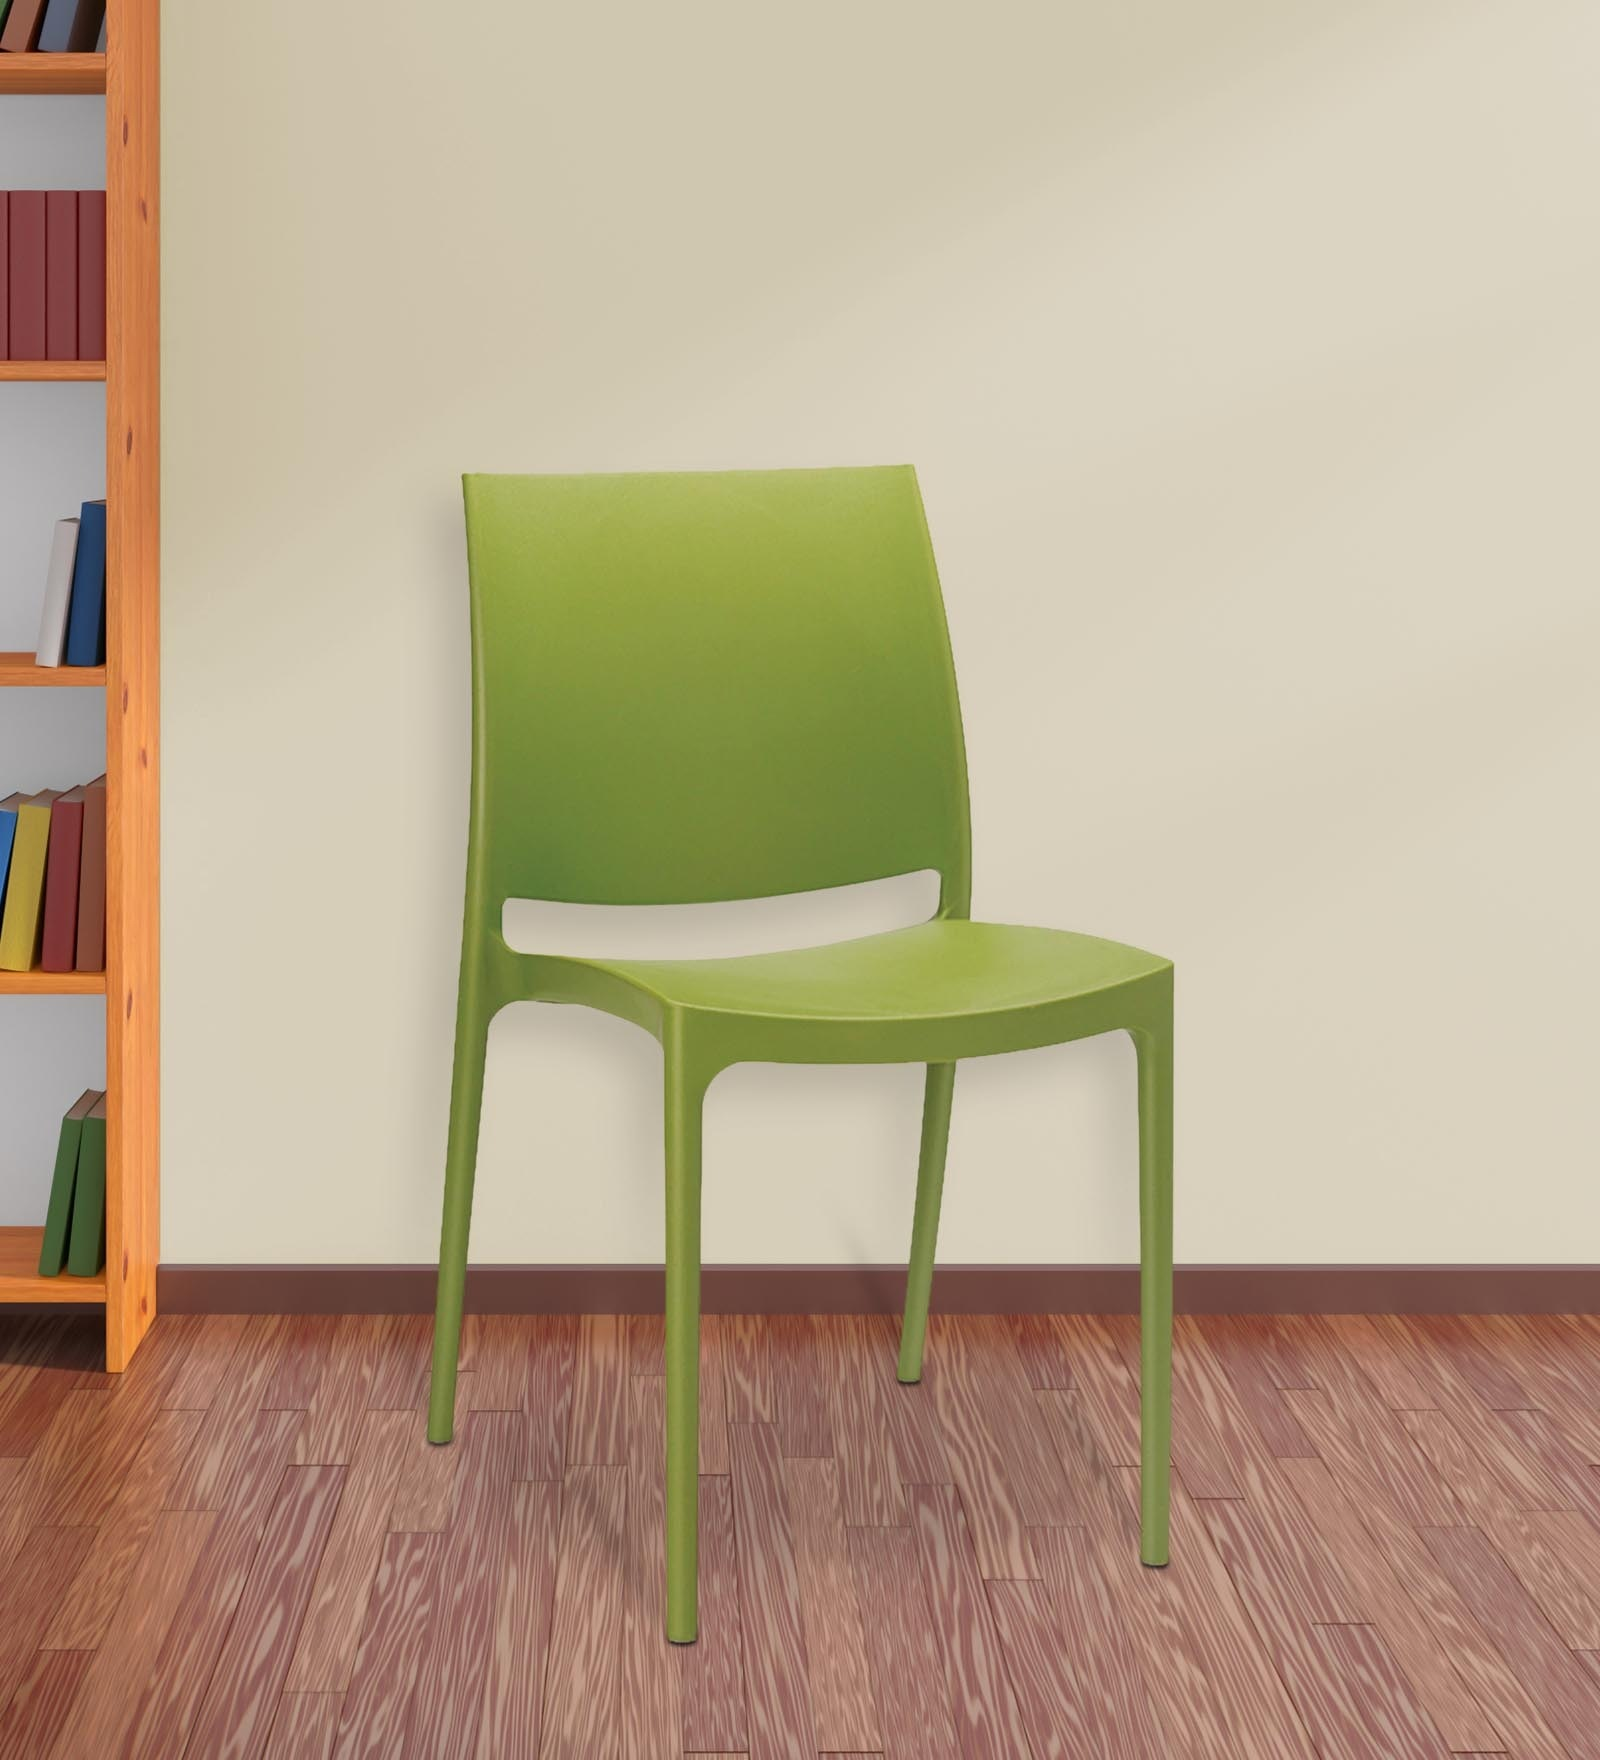Novella Chair in Green Colour by Nilkamal: (429, 460, 1189, 1648)
